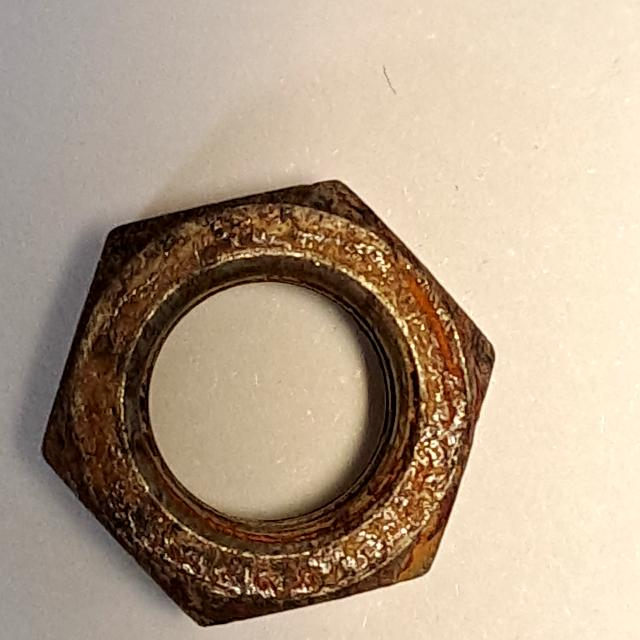Rust: (29, 164, 536, 640)
